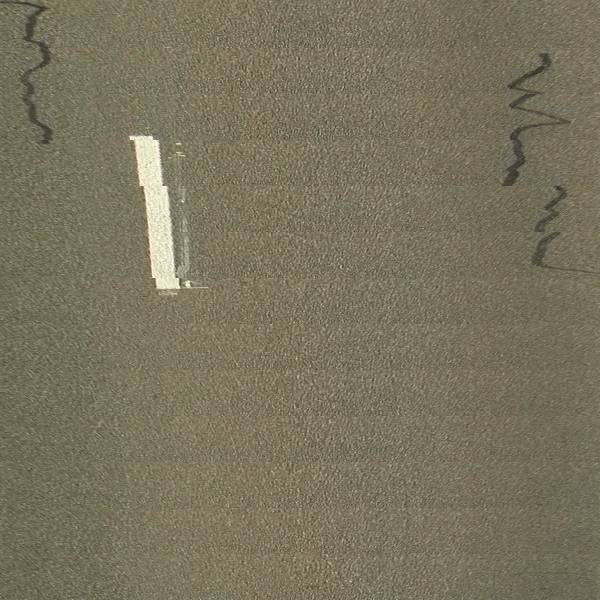road_damage: (500, 49, 576, 188), (1, 6, 61, 145), (534, 181, 567, 273)
